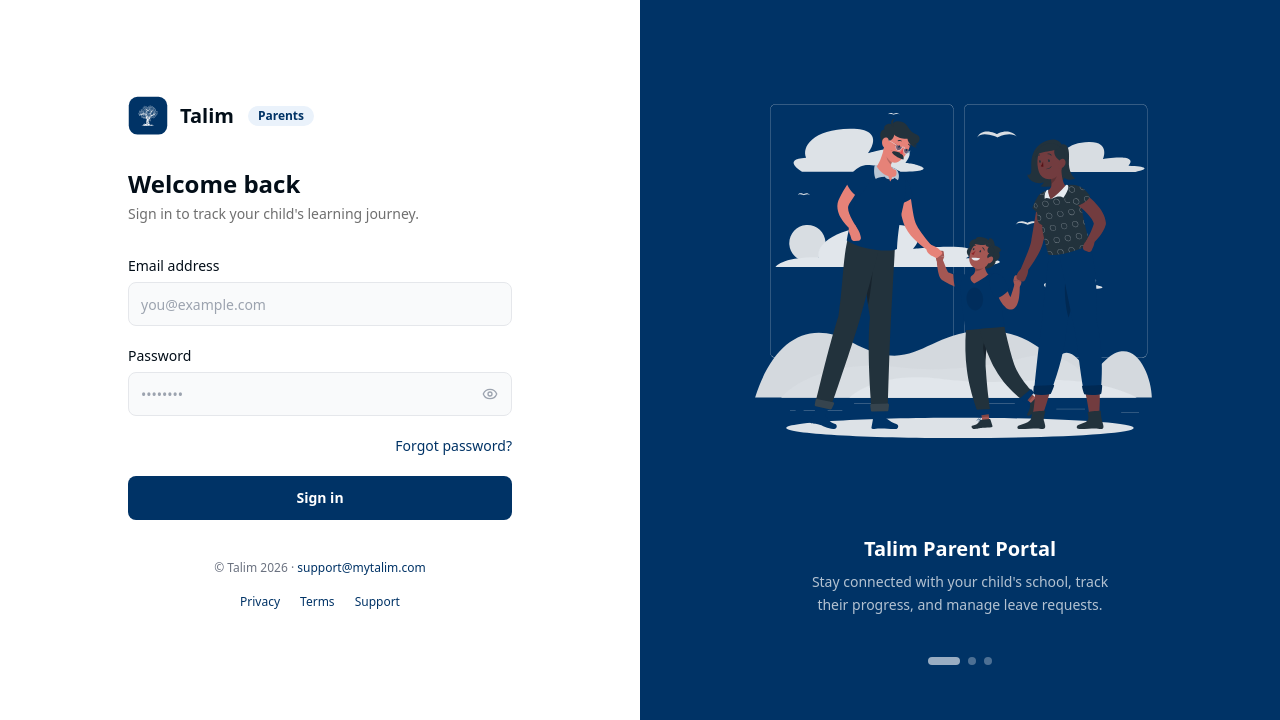
SignIn › shows the amber banner for wrong credentials
Type "saint@example.com" into the field labelled "Email address". click: x=320, y=304
box: top-left (128, 282), bottom-right (512, 326)
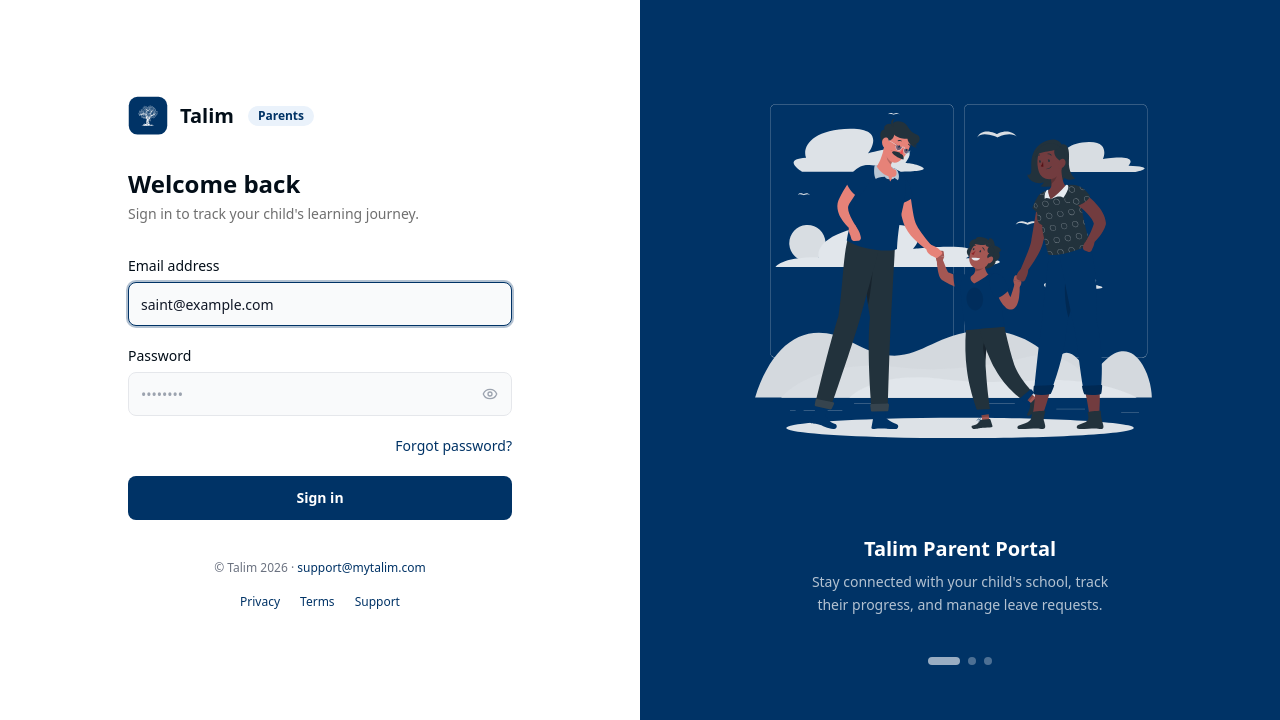
Type "wrong-password" into the password field labelled "Password". click: x=320, y=394
box: top-left (128, 372), bottom-right (512, 416)
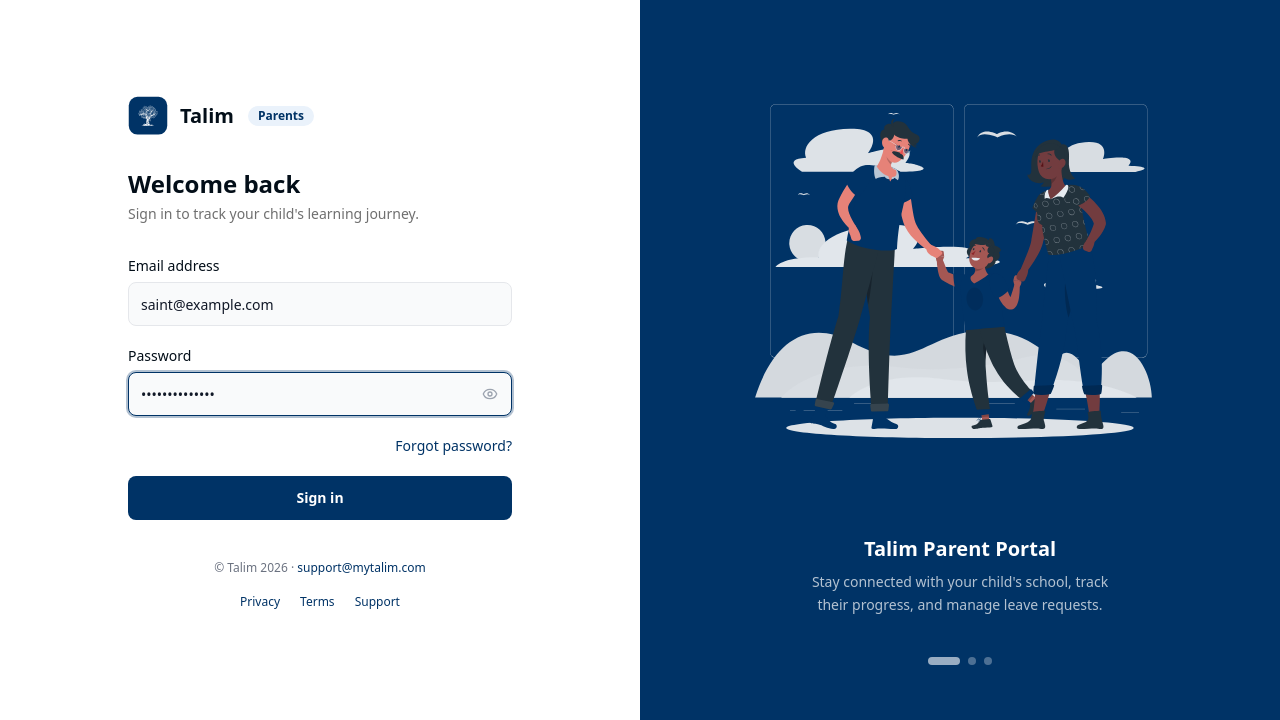
Click the button "Sign in". click: x=320, y=498
box: top-left (128, 476), bottom-right (512, 520)
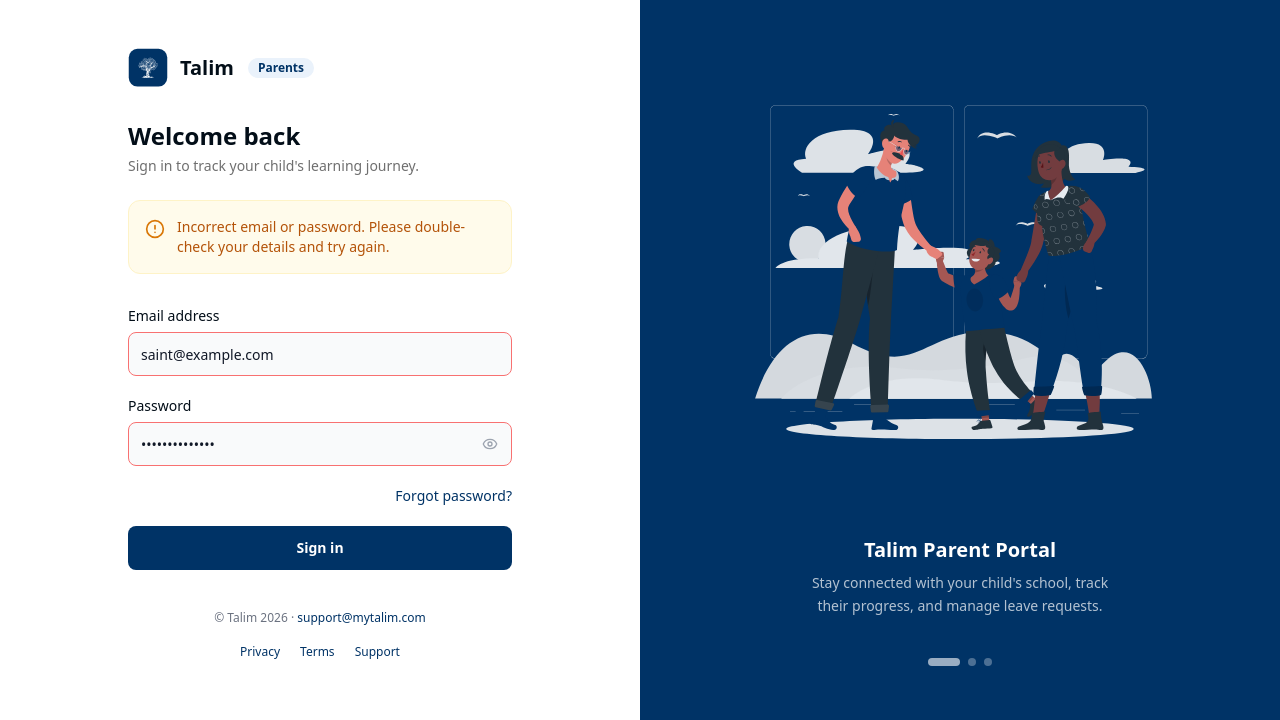
Expected: the message shows "Incorrect email or password", top-left (177, 217), bottom-right (465, 256)
